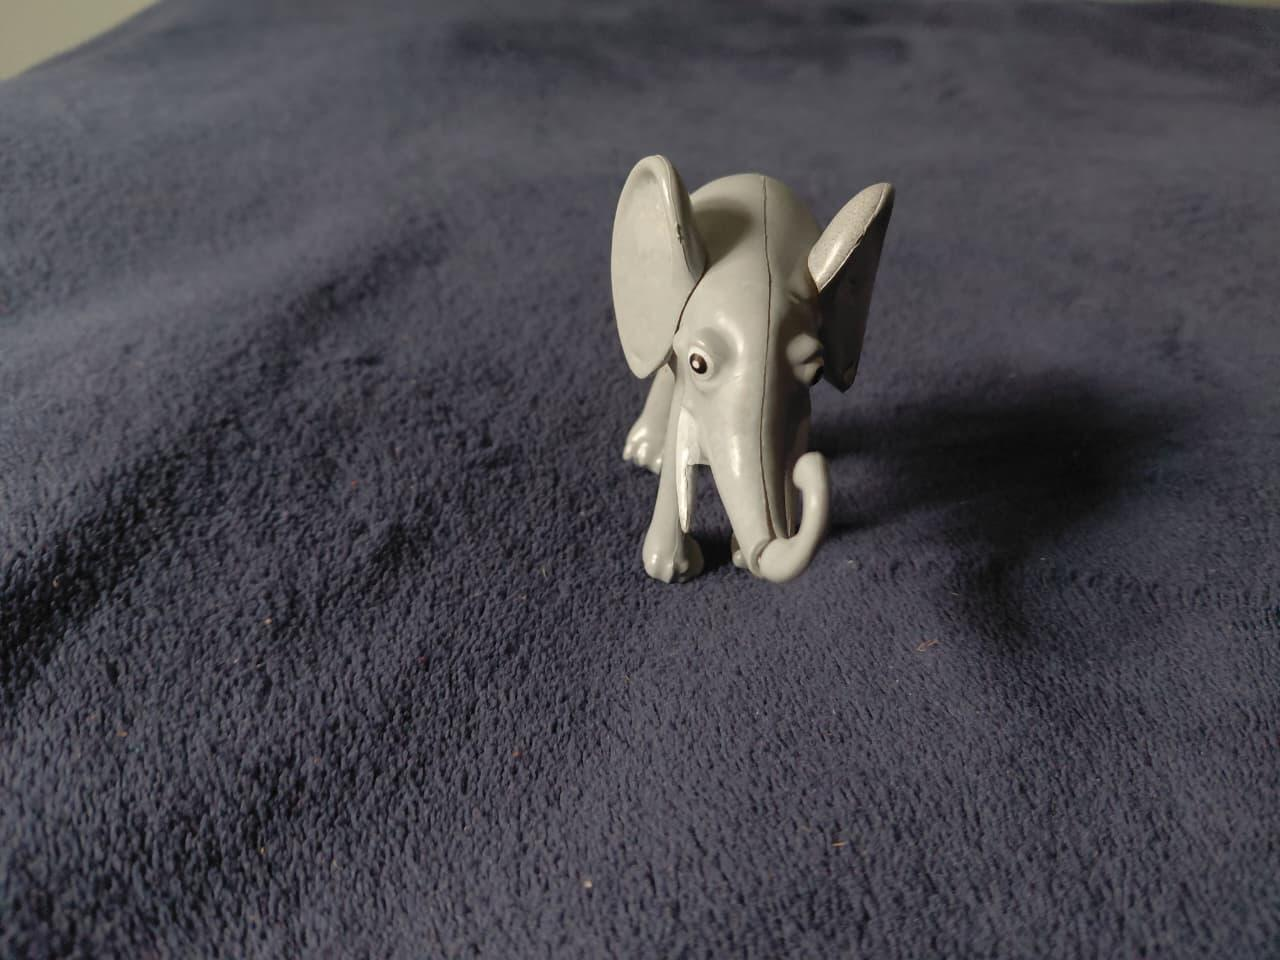elephant: (592, 108, 906, 594)
